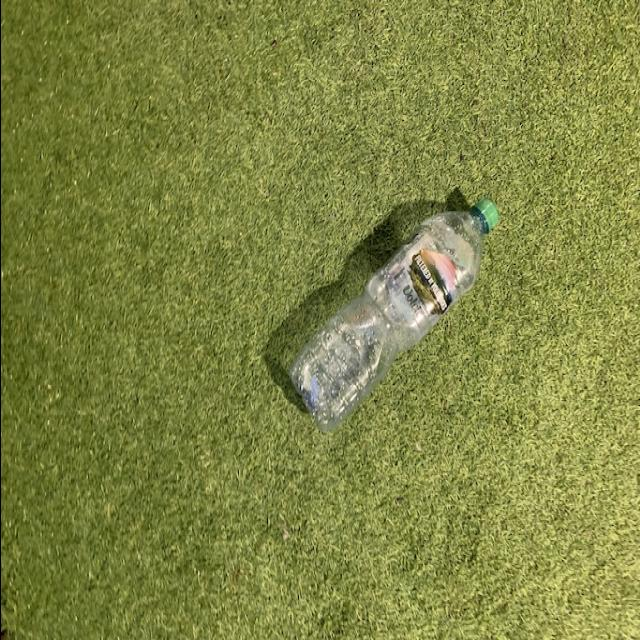litter: (282, 198, 499, 442)
